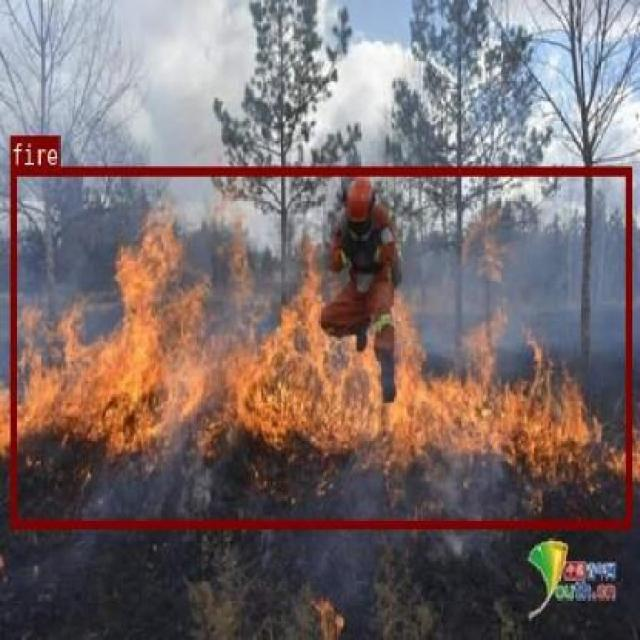Fire: (10, 165, 630, 527)
